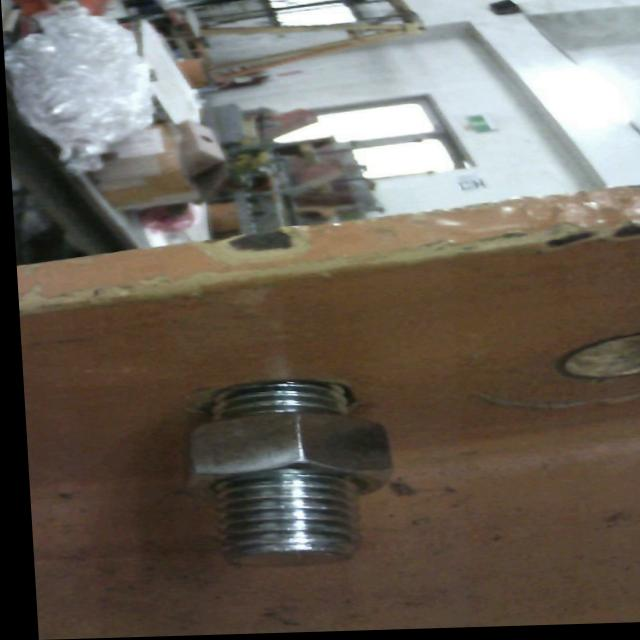Loose bolt: (168, 381, 401, 575)
Missing bolt: (541, 328, 640, 394)
Regular bolt: (166, 374, 402, 576)
